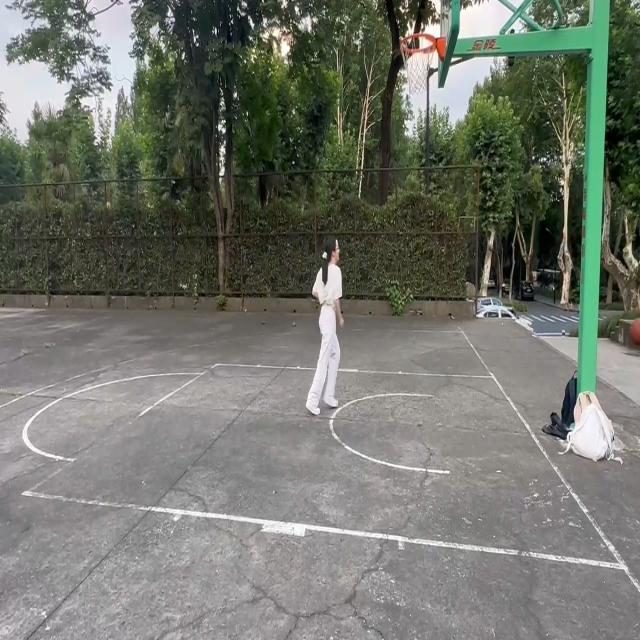basketball: (400, 33, 443, 107)
rim: (629, 319, 640, 346)
